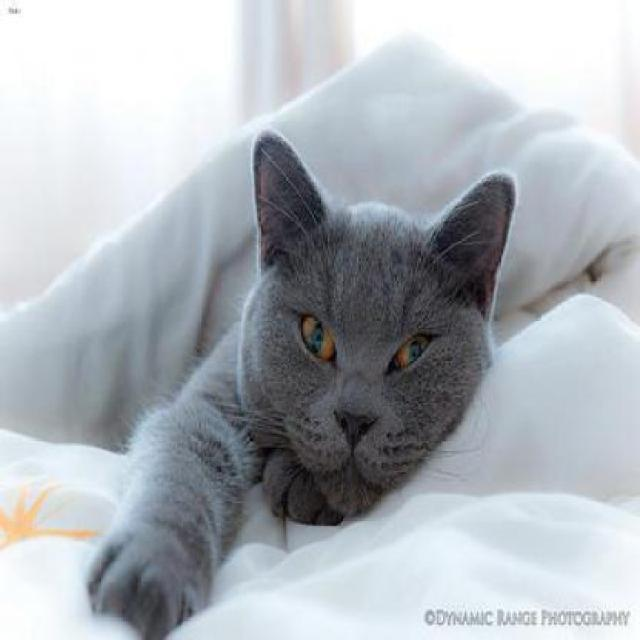cat: (86, 127, 514, 638)
